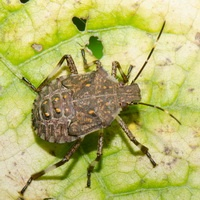insect: (20, 21, 164, 194)
